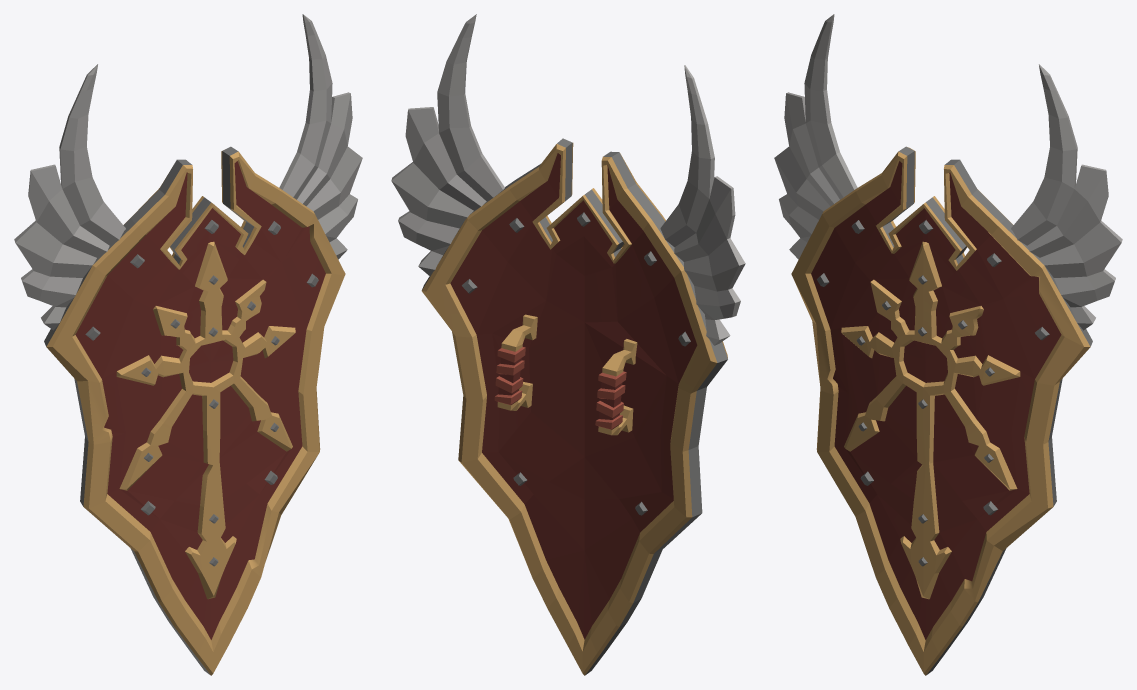
Rendered from SM_Wep_Shield_Ornate_01.glb.
3 views of the same model, side by side, from view 1: azimuth 30°, elevation 25°; view 2: azimuth 150°, elevation 25°; view 3: azimuth 330°, elevation 25° (orthographic).
Visible parts, largest first — view 1: SM_Wep_Shield_Ornate_01; view 2: SM_Wep_Shield_Ornate_01; view 3: SM_Wep_Shield_Ornate_01.
Part boxes in pixels (<box>): SM_Wep_Shield_Ornate_01: <box>14,14,362,675</box>; SM_Wep_Shield_Ornate_01: <box>391,14,745,675</box>; SM_Wep_Shield_Ornate_01: <box>774,14,1122,675</box>.
Bounding box in the file's own units: 0.00928 × 0.016 × 0.00169.
1 material, 1 textured.
